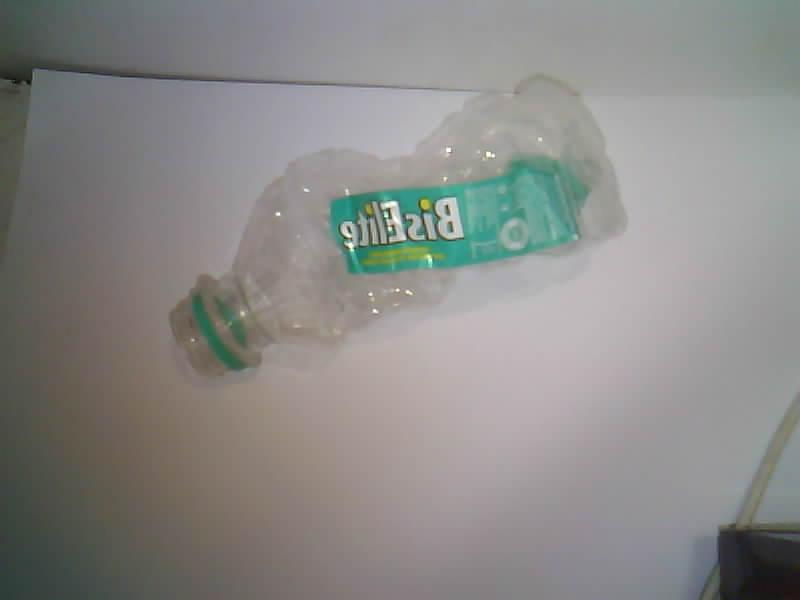non-biodegradable: (170, 76, 624, 375)
